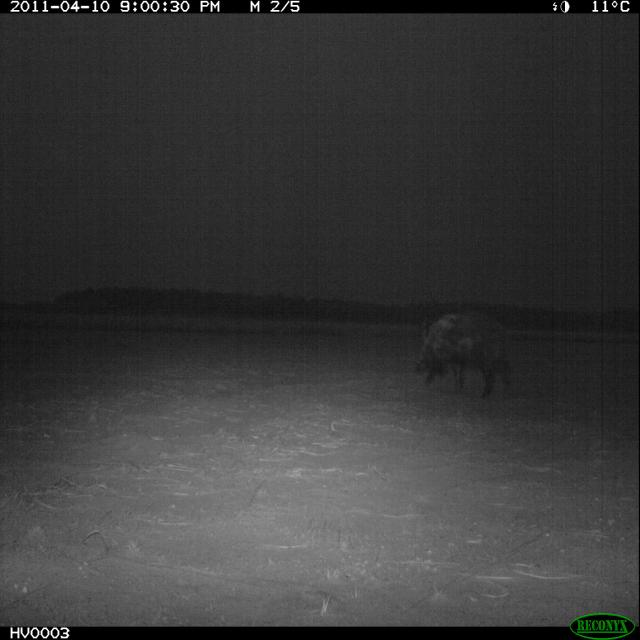boar: (390, 292, 534, 417)
